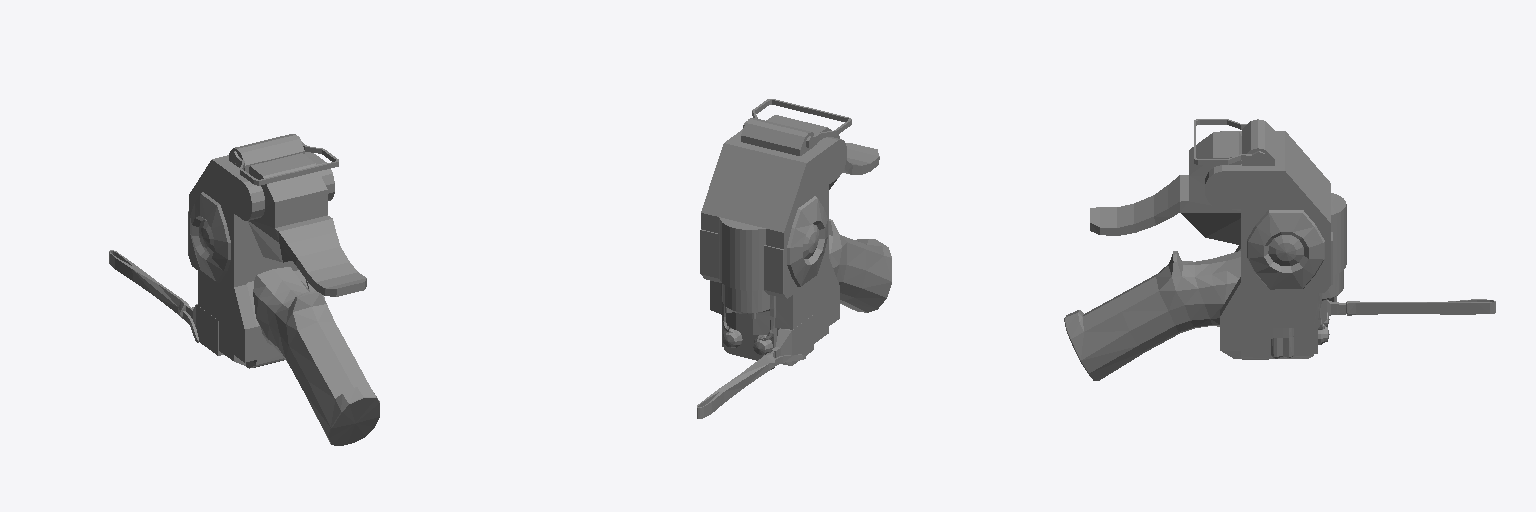
Rendered from clacker_detonator.obj.
3 renders of one model, left to right at view 1: azimuth 30°, elevation 25°; view 2: azimuth 150°, elevation 25°; view 3: azimuth 270°, elevation 25°, orthographic.
Visible parts, largest first — view 1: SMDImport; view 2: SMDImport; view 3: SMDImport.
Boxes of the visible parts, x1=… form: SMDImport: x1=109, y1=134, x2=379, y2=445; SMDImport: x1=697, y1=99, x2=891, y2=418; SMDImport: x1=1064, y1=119, x2=1495, y2=380.
Bounding box in the file's own units: 3.27 × 7.66 × 12.27.